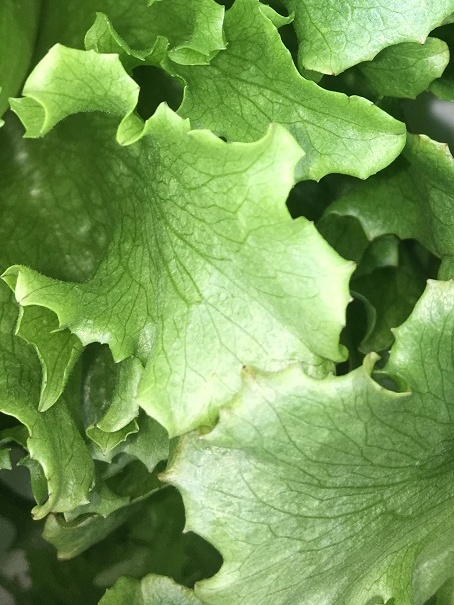tipburn: (151, 465, 177, 487), (236, 358, 258, 380), (263, 115, 283, 135), (359, 346, 379, 365), (86, 416, 105, 436), (413, 30, 432, 50), (12, 289, 29, 310), (325, 63, 341, 83), (438, 135, 454, 153)
